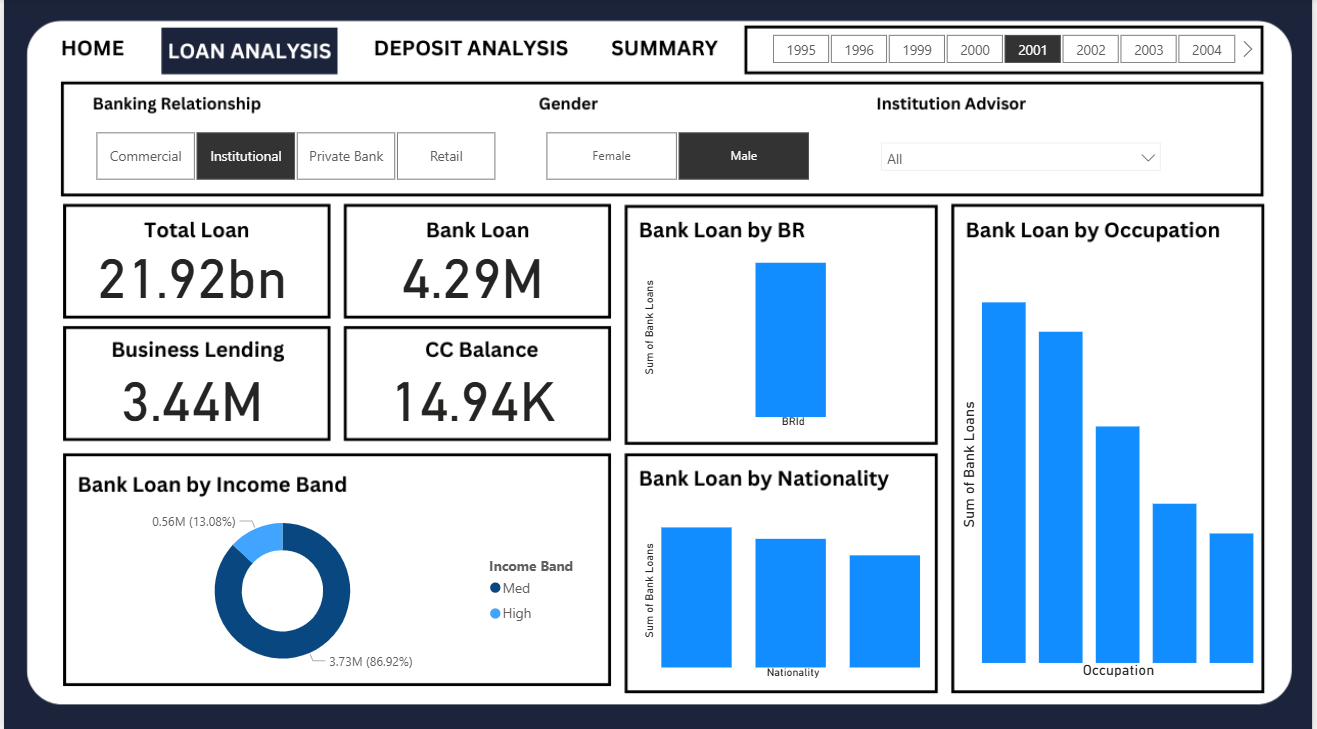

The page's visual inventory and layout, read from the dashboard file:
{"tool":"powerbi","page":{"name":"Loan Analysis","canvas":[1280,720],"ordinal":1},"visuals":[{"type":"card","fields":{"Values":["Sum(banking_case customer.Total Loan)"]},"box":[33.3,215,300,101.7],"z":0},{"type":"card","fields":{"Values":["Sum(banking_case customer.Bank Loans)"]},"box":[308.3,215,300,101.7],"z":1},{"type":"card","fields":{"Values":["Sum(banking_case customer.Business Lending)"]},"box":[33.3,336.7,300,101.7],"z":2},{"type":"card","fields":{"Values":["Sum(banking_case customer.Credit Card Balance)"]},"box":[308.3,336.7,300,101.7],"z":3},{"type":"slicer","fields":{"Values":["banking_case customer.Year of Joining"]},"box":[726.7,28.3,501.7,41.7],"z":4},{"type":"donutChart","fields":{"Category":["banking_case customer.Income Band"],"Y":["Sum(banking_case customer.Bank Loans)"]},"box":[65,488.3,515,180],"z":5},{"type":"clusteredColumnChart","fields":{"Category":["banking_case customer.BRId"],"Y":["Sum(banking_case customer.Bank Loans)"]},"box":[620,218.3,285,205],"z":6},{"type":"clusteredColumnChart","fields":{"Y":["Sum(banking_case customer.Bank Loans)"],"Category":["banking_case customer.Nationality"]},"box":[620,488.3,285,180],"z":7},{"type":"clusteredColumnChart","fields":{"Category":["banking_case customer.Occupation"],"Y":["Sum(banking_case customer.Bank Loans)"]},"box":[930,246.7,298.3,421.7],"z":8},{"type":"slicer","fields":{"Values":["banking_case customer.BRId"]},"box":[65,123.3,440,60],"z":9},{"type":"slicer","fields":{"Values":["banking_case customer.GenderId"]},"box":[505,123.3,306.7,60],"z":10},{"type":"slicer","fields":{"Values":["banking_case customer.IAId"]},"box":[848.9,130,293.3,46.7],"z":11},{"type":"actionButton","box":[48.3,28.3,80,41.7],"z":12},{"type":"actionButton","box":[348.3,28.3,215,41.7],"z":13}]}

Visuals, with their boxes in screenshot pixels (x1, y1, x2, y2), scaled from the page's 1280x720 canvas onto the 1317x729 screenshot:
card - Sum(banking_case customer.Total Loan): bbox(34, 218, 343, 321)
card - Sum(banking_case customer.Bank Loans): bbox(317, 218, 626, 321)
card - Sum(banking_case customer.Business Lending): bbox(34, 341, 343, 444)
card - Sum(banking_case customer.Credit Card Balance): bbox(317, 341, 626, 444)
slicer - banking_case customer.Year of Joining: bbox(748, 29, 1264, 71)
donutChart - banking_case customer.Income Band x Sum(banking_case customer.Bank Loans): bbox(67, 494, 597, 677)
clusteredColumnChart - banking_case customer.BRId x Sum(banking_case customer.Bank Loans): bbox(638, 221, 931, 429)
clusteredColumnChart - Sum(banking_case customer.Bank Loans) x banking_case customer.Nationality: bbox(638, 494, 931, 677)
clusteredColumnChart - banking_case customer.Occupation x Sum(banking_case customer.Bank Loans): bbox(957, 250, 1264, 677)
slicer - banking_case customer.BRId: bbox(67, 125, 520, 186)
slicer - banking_case customer.GenderId: bbox(520, 125, 835, 186)
slicer - banking_case customer.IAId: bbox(873, 132, 1175, 179)
actionButton: bbox(50, 29, 132, 71)
actionButton: bbox(358, 29, 580, 71)
